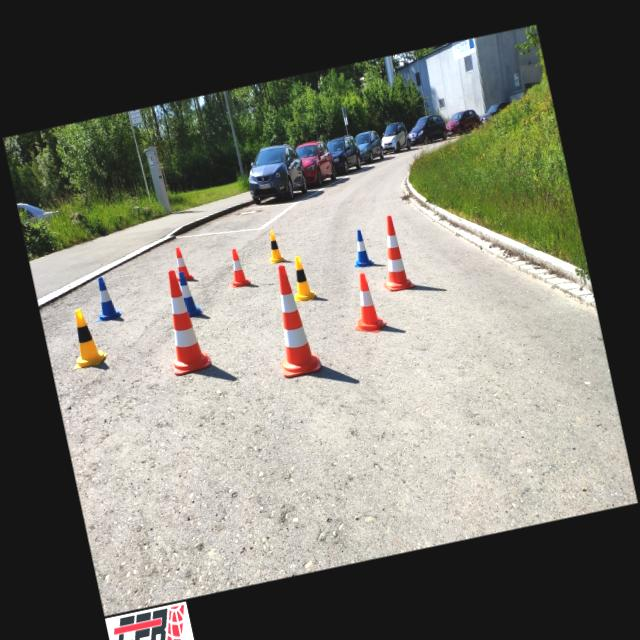blue_cone: (87, 273, 123, 322), (177, 268, 202, 317), (348, 228, 374, 269)
large_orange_cone: (261, 261, 322, 378), (153, 265, 211, 374), (370, 212, 414, 294)
orange_cone: (344, 270, 388, 336), (223, 246, 250, 288), (171, 245, 194, 283)
yellow_cone: (62, 305, 108, 369), (286, 254, 316, 302), (264, 229, 284, 264)
